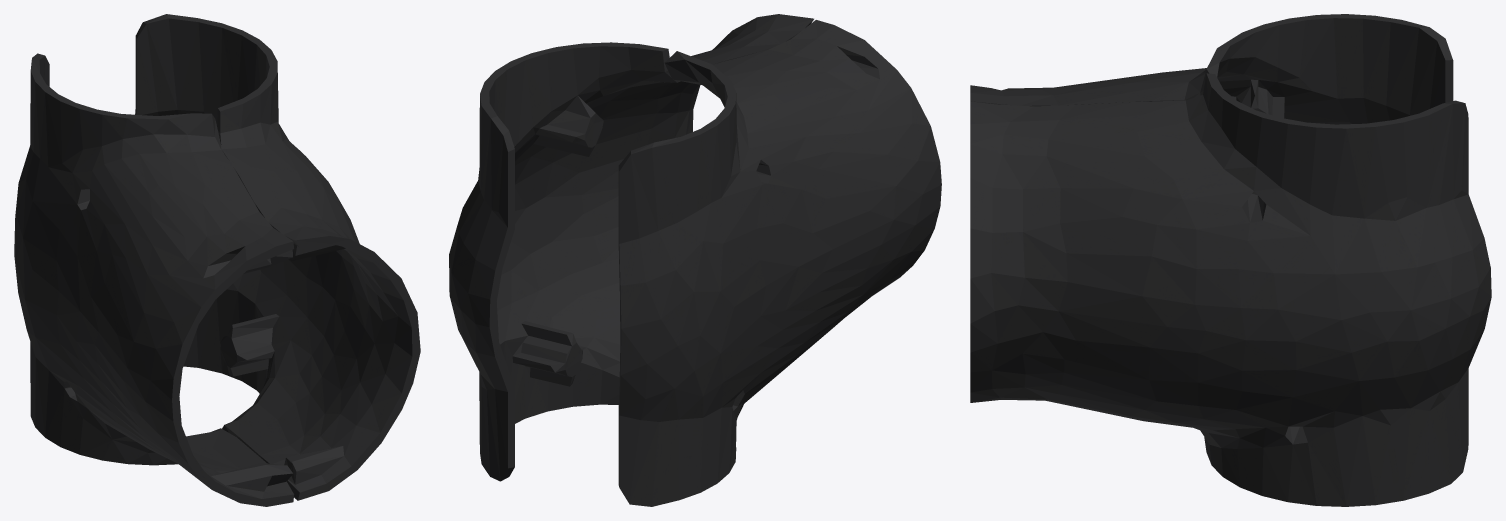
Rendered from head_1.dae.
The picture shows the model from 3 angles, left to right: view 1: azimuth 30°, elevation 25°; view 2: azimuth 150°, elevation 25°; view 3: azimuth 270°, elevation 25°; orthographic projection. The views are drawn at different scales.
Visible parts, largest first — view 1: node; view 2: node; view 3: node.
Part boxes in pixels (x1,y1,x2,y2): node: [14, 14, 420, 506]; node: [449, 14, 941, 506]; node: [970, 14, 1491, 506].
Bounding box in the file's own units: 0.1222 × 0.1391 × 0.1729.
1 material, 1 textured.
